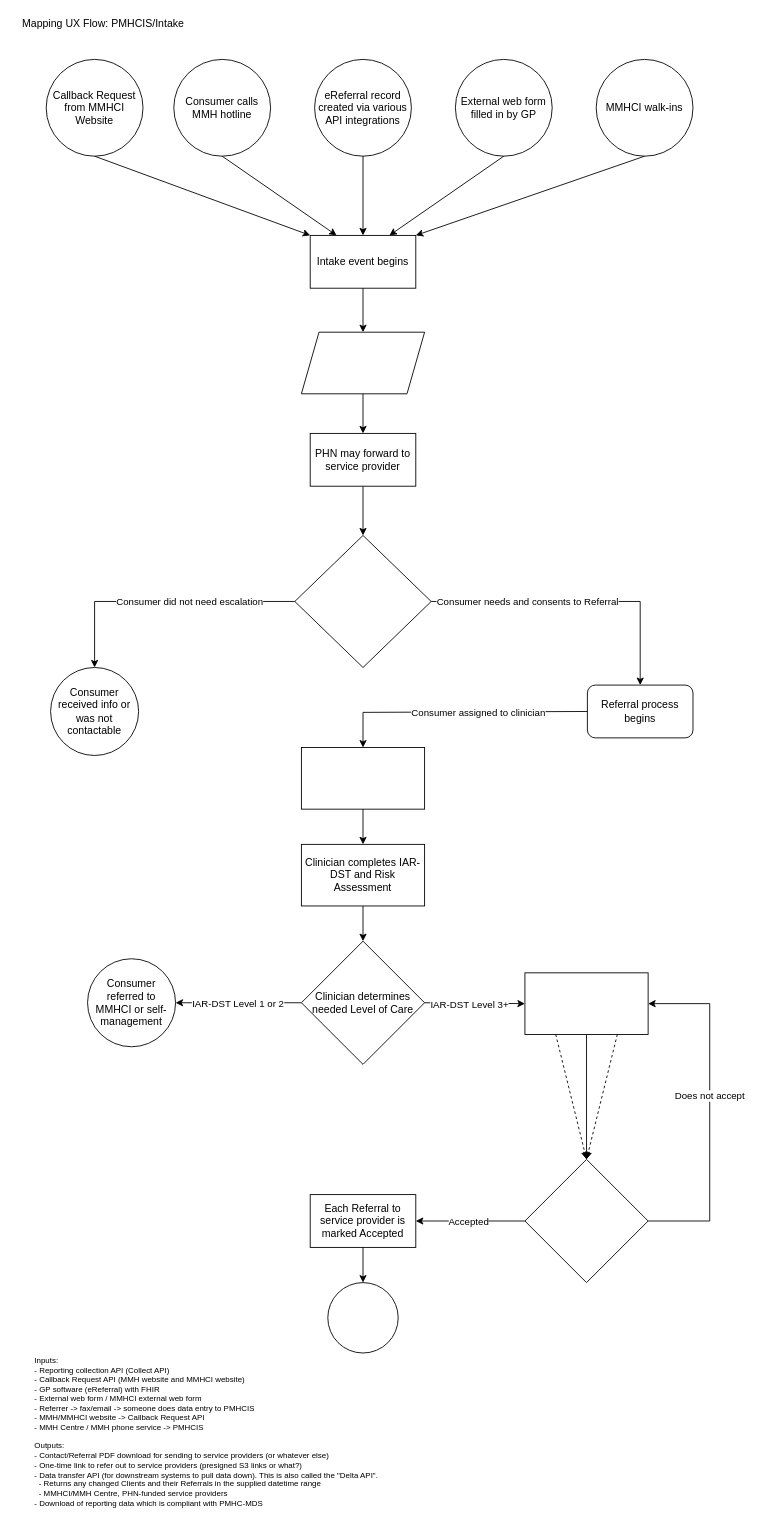
This 759x1523 diagram has some shape labels left out. Each missing label, with the centre of its shape:
"Clinician gathers additional demographic information from Consumer" goes at point 363,778.
"Consumer is routed to PHN in the catchment area" goes at point 363,362.
"Referral is sent to 1:M service providers (warm handover)" goes at point 586,1003.
"Service providers decide whether to accept Referral" goes at point 586,1221.
"Staff attempt contact with Consumer, determine whether to start Referral process" goes at point 362,601.
"Staff follow up, outcome recorded" goes at point 362,1317.
